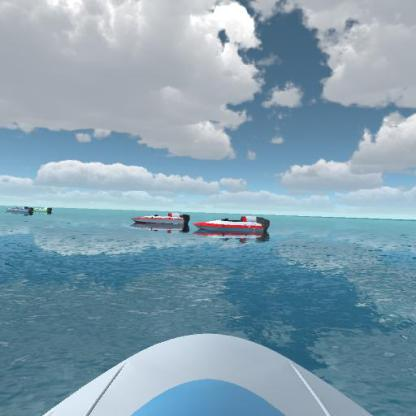usv0: (34, 204, 54, 215)
usv1: (6, 202, 35, 216)
usv3: (192, 212, 274, 242), (129, 209, 194, 233)
